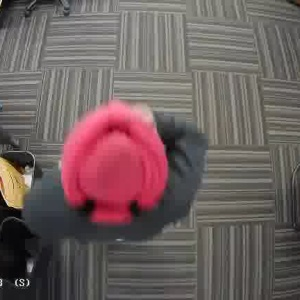person: (22, 99, 208, 244)
